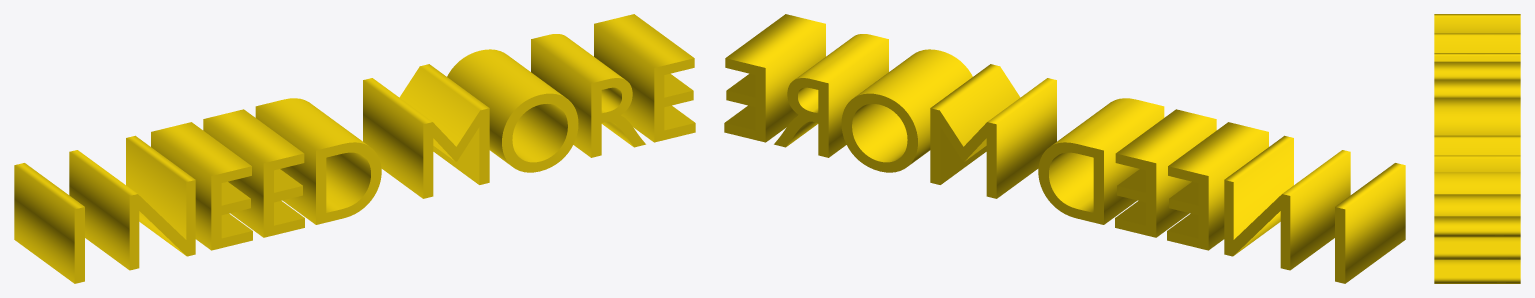
The model's file is Greed1.fbx.
3 views of the same model, side by side, from view 1: azimuth 30°, elevation 25°; view 2: azimuth 150°, elevation 25°; view 3: azimuth 270°, elevation 25° (orthographic). The views are drawn at different scales.
Visible parts, largest first — view 1: Text; view 2: Text; view 3: Text.
Part boxes in pixels (x1,y1,x2,y2): Text: (14,14,695,283); Text: (724,14,1405,283); Text: (1434,14,1520,283).
Bounding box in the file's own units: 594 × 70 × 100.
